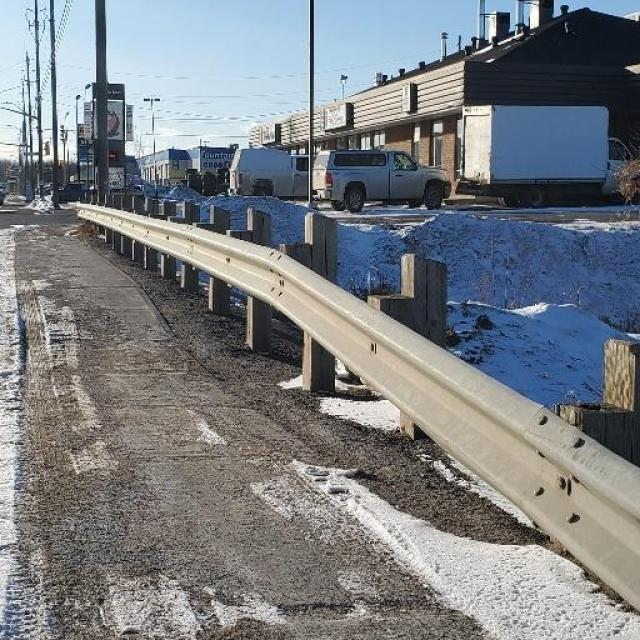Guard rail: (75, 185, 640, 618)
